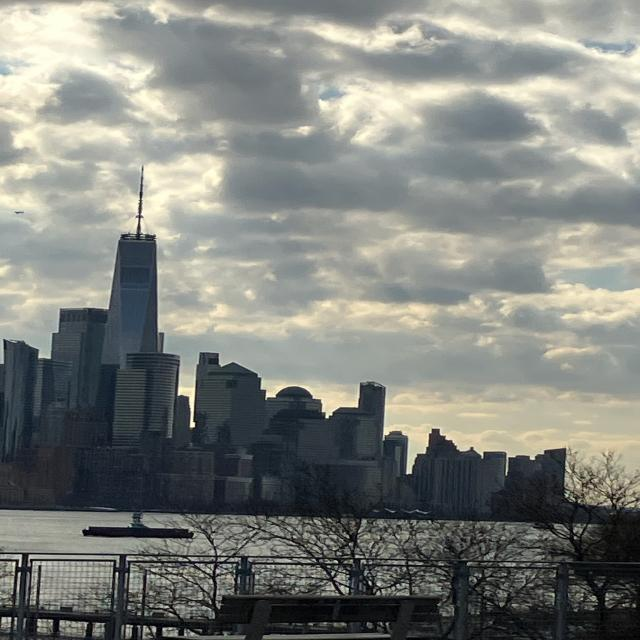WTC: (107, 166, 159, 354)
